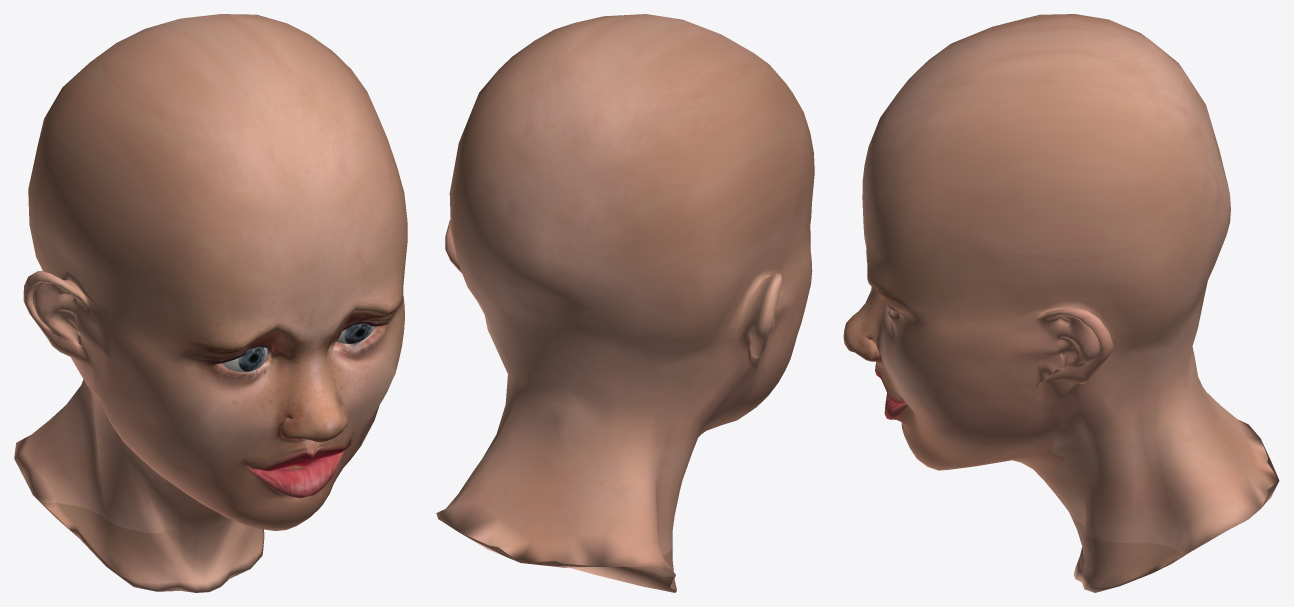
File: head.fbx
3 renders of one model, left to right at view 1: azimuth 30°, elevation 25°; view 2: azimuth 150°, elevation 25°; view 3: azimuth 270°, elevation 25°, orthographic. The views are drawn at different scales.
Parts seen in each view (by area): view 1: Anakin, Eye01.Eye, Eye01.Eye.001; view 2: Anakin; view 3: Anakin.
Boxes of the visible parts, x1,y1,x2,y2 form: Anakin: [14, 14, 407, 592]; Eye01.Eye: [221, 346, 267, 372]; Eye01.Eye.001: [336, 323, 374, 343]; Anakin: [436, 14, 814, 592]; Anakin: [843, 14, 1279, 592].
Bounding box in the file's own units: 470 × 741 × 543.
3 materials, 3 textured.
